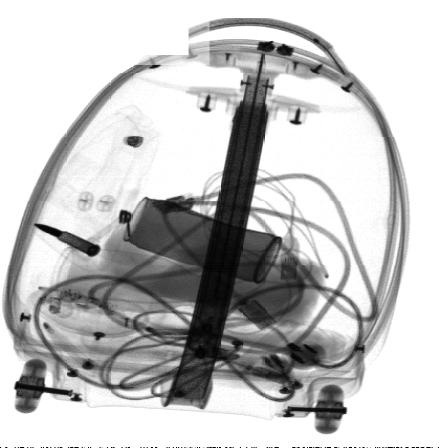Bullet: (30, 224, 100, 257)
